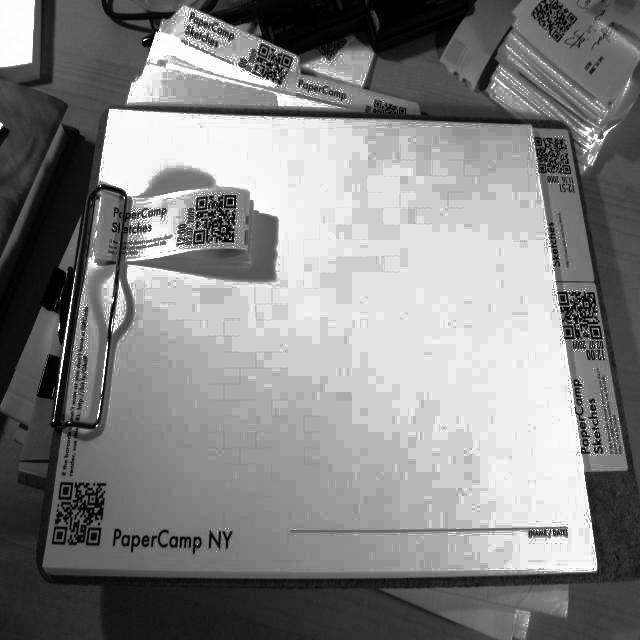qr_code: (52, 482, 106, 545), (193, 195, 236, 245), (529, 0, 578, 43), (558, 292, 602, 339), (252, 43, 293, 84), (534, 137, 571, 174), (315, 37, 347, 61), (373, 99, 406, 114)
